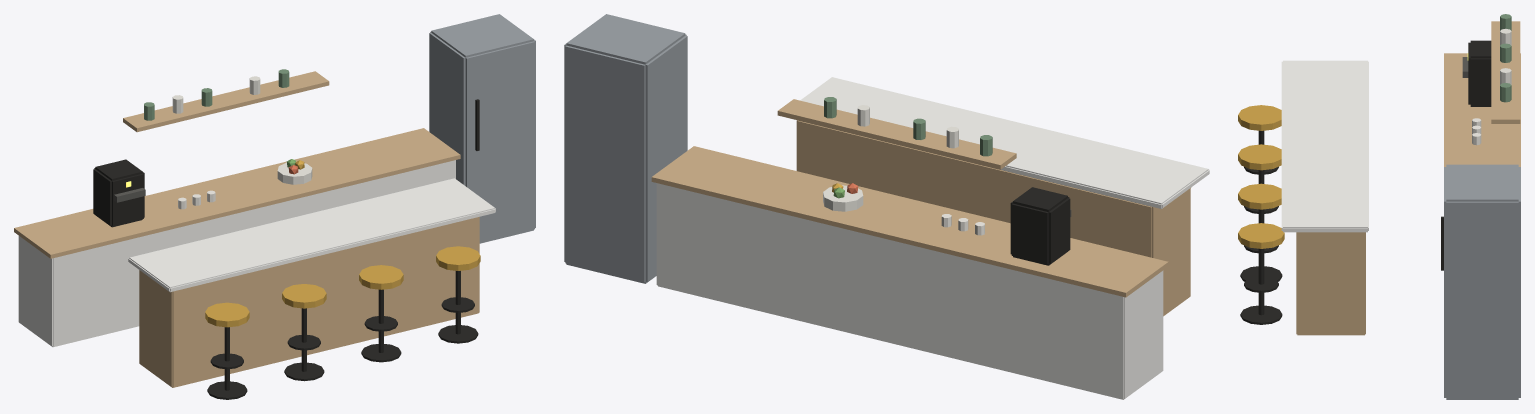
The model's file is bar.glb.
3 views of the same model, side by side, from view 1: azimuth 30°, elevation 25°; view 2: azimuth 150°, elevation 25°; view 3: azimuth 270°, elevation 25° (orthographic). The views are drawn at different scales.
Visible parts, largest first — view 1: Island, Fridge, Counter, IslandTop, CounterTop, Shelf, Machine, StoolSeat0, StoolSeat2, StoolSeat3, StoolSeat1, StoolBase3 (+4 smaller); view 2: Counter, Fridge, Island, CounterTop, IslandTop, Shelf, Machine, Fruit; view 3: Fridge, IslandTop, Island, CounterTop, Shelf, Machine, StoolSeat3, StoolSeat1, StoolSeat2, StoolSeat0, StoolBase3, StoolRing3 (+2 smaller).
Part boxes in pixels (bbox=[...]): Island: bbox=[139, 217, 479, 387]; Fridge: bbox=[429, 14, 535, 243]; Counter: bbox=[18, 160, 455, 347]; IslandTop: bbox=[128, 178, 495, 292]; CounterTop: bbox=[14, 128, 460, 258]; Shelf: bbox=[123, 71, 329, 132]; Machine: bbox=[93, 159, 144, 227]; StoolSeat0: bbox=[205, 302, 249, 327]; StoolSeat2: bbox=[359, 265, 403, 289]; StoolSeat3: bbox=[436, 246, 480, 270]; StoolSeat1: bbox=[282, 284, 326, 308]; StoolBase3: bbox=[438, 325, 478, 343]; Counter: bbox=[656, 183, 1163, 399]; Fridge: bbox=[564, 14, 687, 283]; Island: bbox=[796, 120, 1190, 316]; CounterTop: bbox=[651, 146, 1168, 297]; IslandTop: bbox=[800, 77, 1209, 208]; Shelf: bbox=[777, 99, 1016, 169]; Machine: bbox=[1010, 187, 1070, 265]; Fruit: bbox=[823, 185, 863, 211]; Fridge: bbox=[1444, 164, 1520, 399]; IslandTop: bbox=[1281, 60, 1368, 232]; Island: bbox=[1296, 232, 1365, 335]; CounterTop: bbox=[1444, 53, 1520, 166]; Shelf: bbox=[1491, 21, 1520, 123]; Machine: bbox=[1468, 40, 1491, 106]; StoolSeat3: bbox=[1238, 223, 1284, 248]; StoolSeat1: bbox=[1238, 144, 1281, 170]; StoolSeat2: bbox=[1238, 183, 1281, 209]; StoolSeat0: bbox=[1238, 105, 1281, 130]; StoolBase3: bbox=[1240, 305, 1282, 324]; StoolRing3: bbox=[1244, 276, 1278, 292].
Size of the model in its own units: 5.06 by 1.91 by 2.43.
